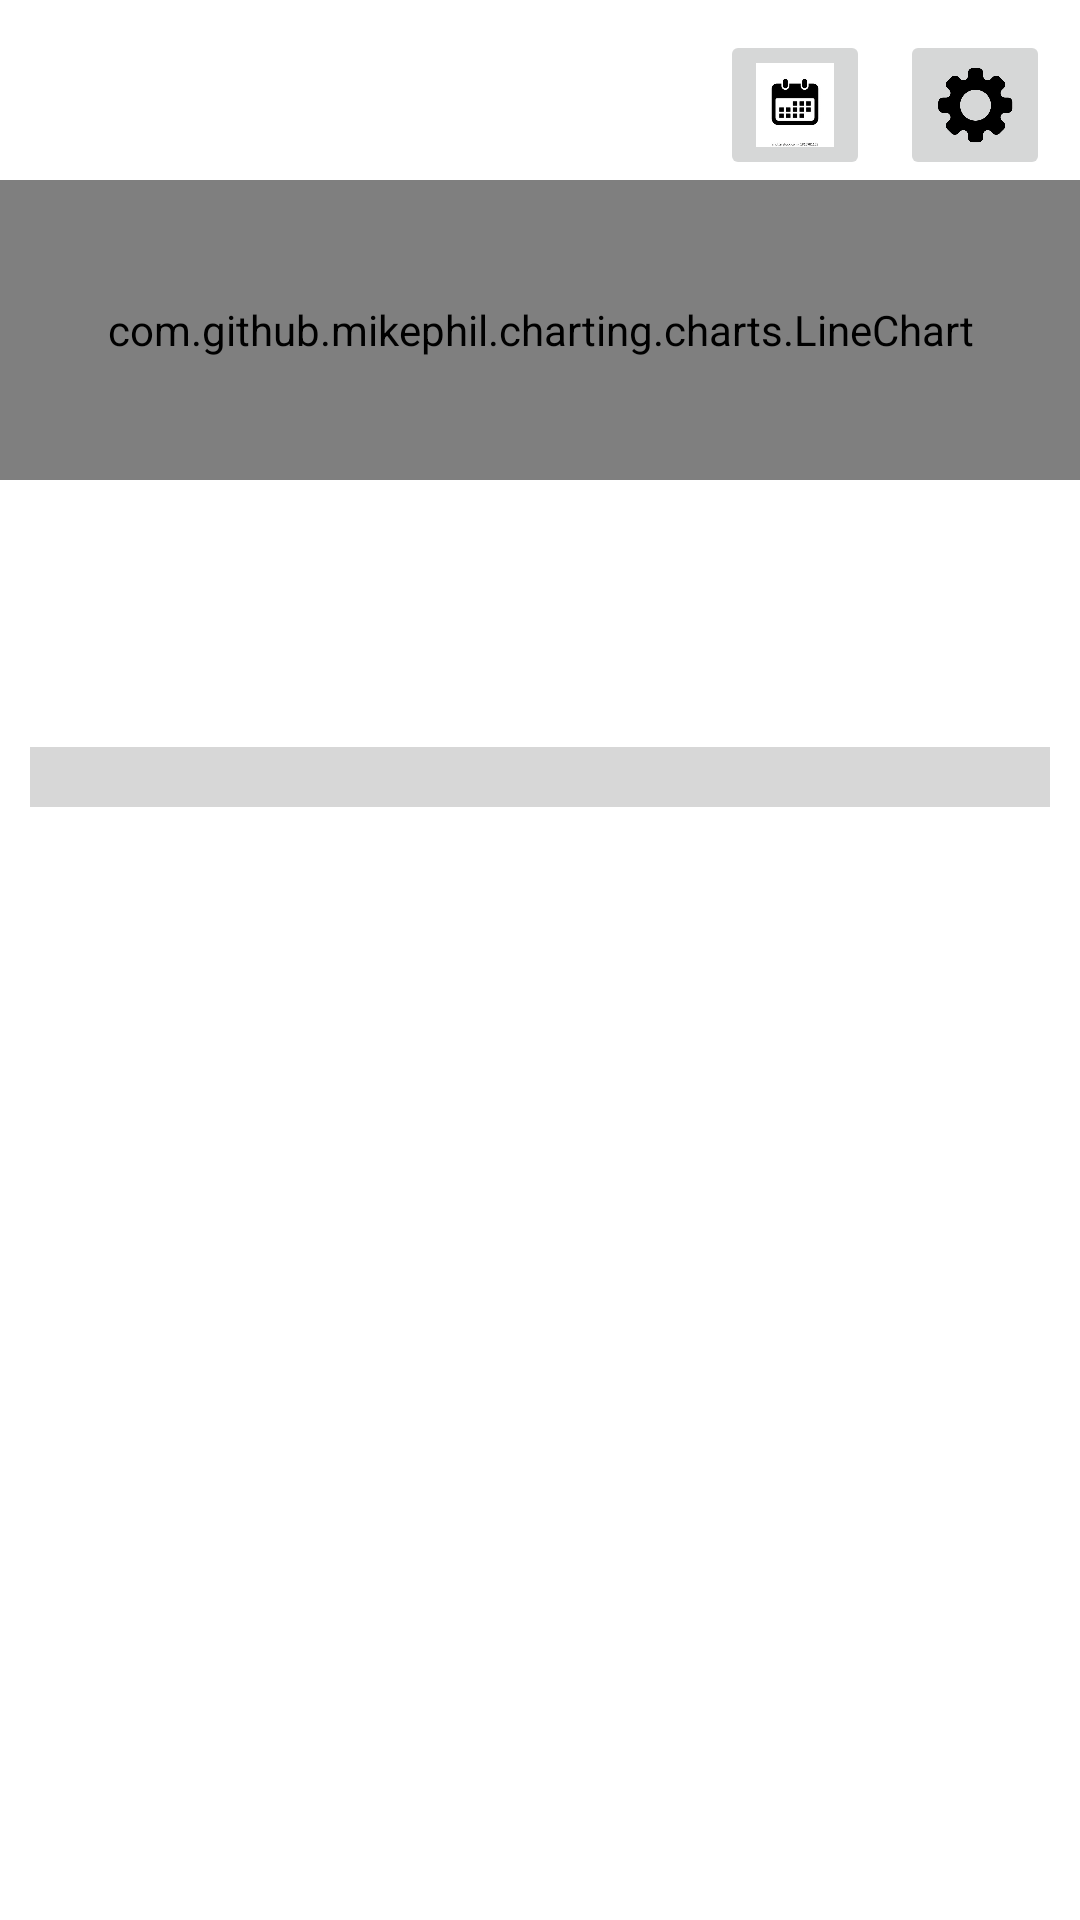

Locate icon controls on the screen. Image size 1080w x 1920h, boxes as [x1=x1, y1=y1, x2=x2, y2=y2].
calendar: [x1=732, y1=48, x2=858, y2=162]
settings: [x1=912, y1=48, x2=1038, y2=162]
